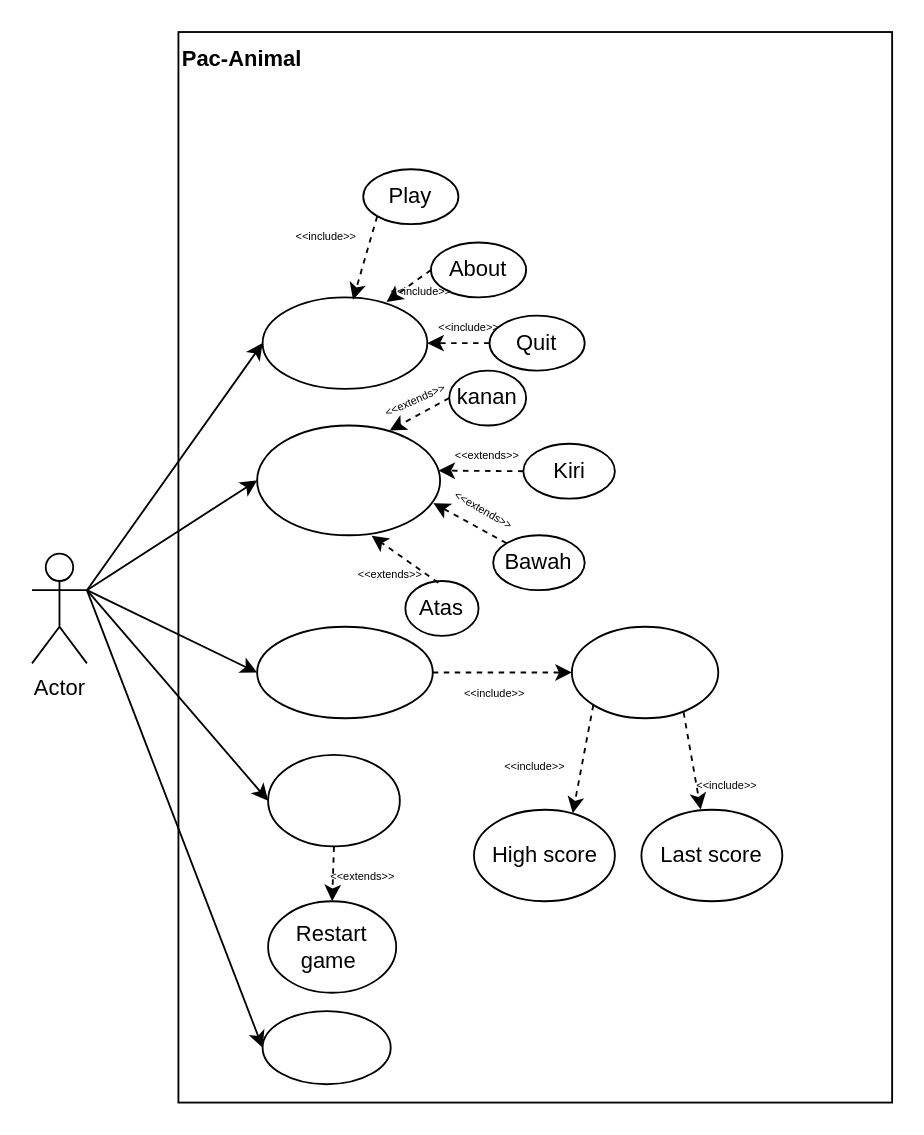
Image size: 924x1135. Some labels were removed from this diagram. The centre of each missing label's shape, as x and y in pixels:
"Exit game" goes at point (326, 1046).
"Game over" goes at point (333, 799).
"Makan" goes at point (344, 671).
"Mengubah gerakan" goes at point (347, 479).
"Menu" goes at point (344, 342).
"Score" goes at point (644, 671).
